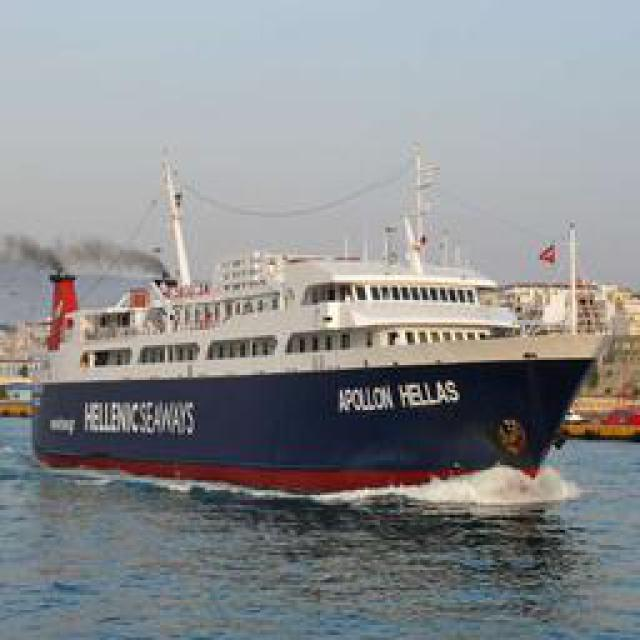Ship: (29, 160, 612, 505)
